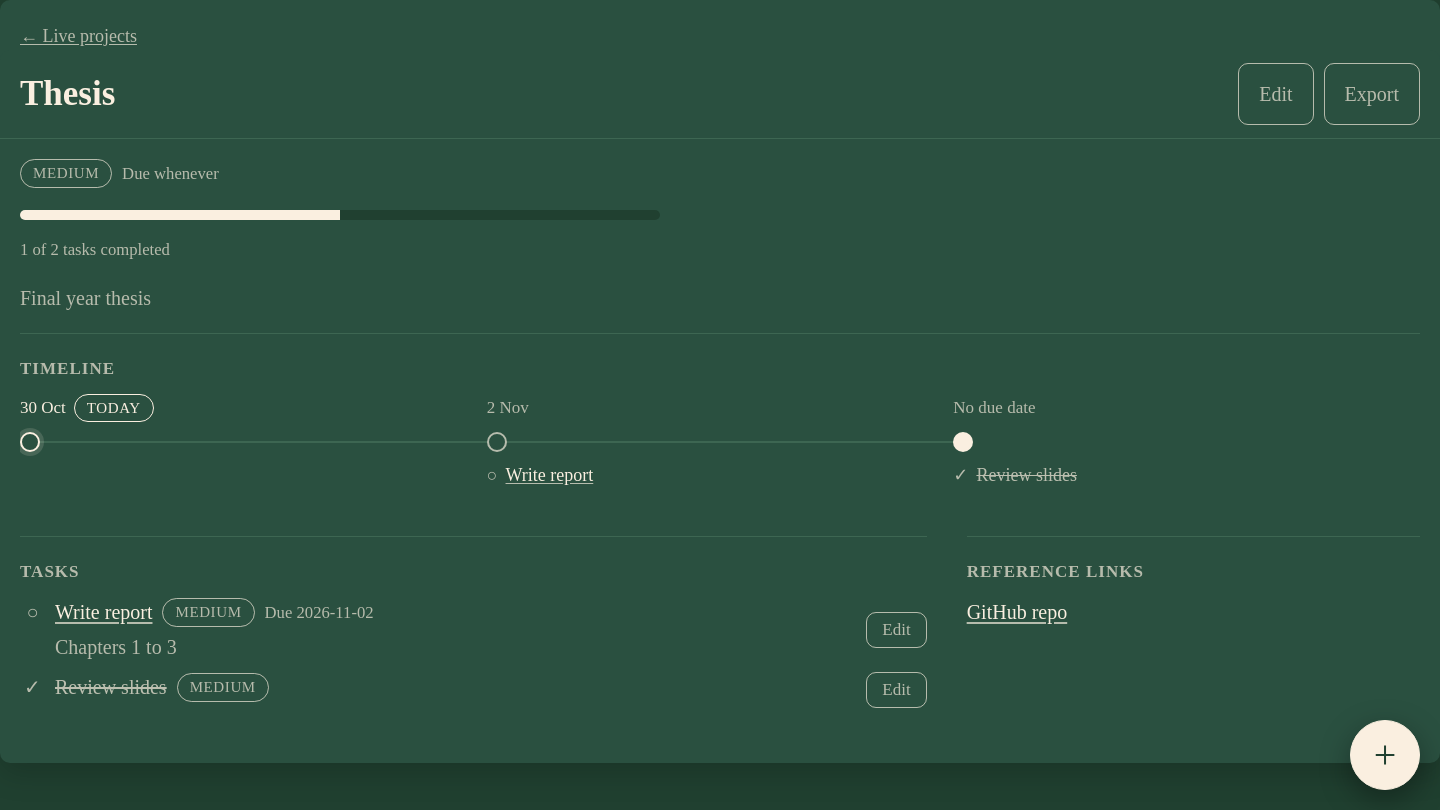
Scenario: Dashboard details pages › goes from a project's page to a task's page, which shows its projects and both sides of its relations
The width and height of the screenshot is (1440, 810).
Click the link to "/tasks/t2". click: (111, 687)
box: [55, 672, 167, 702]
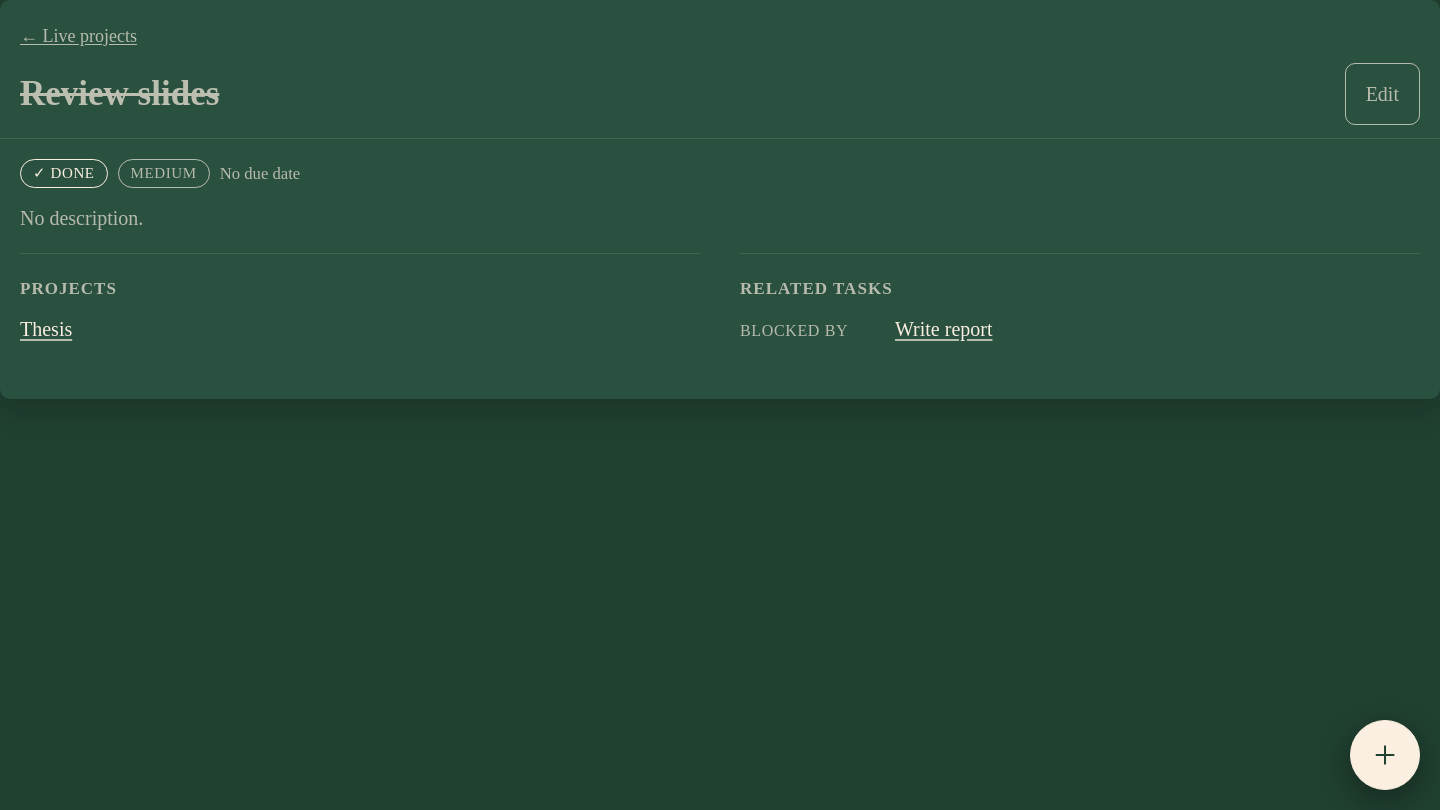
Expected: the element with class "meta" shows "✓ done", [33, 165, 95, 181]
Expected: the text "No description." is shown, [20, 207, 143, 229]
Click the link to "/tasks/t1". click: (944, 329)
box: [895, 314, 992, 344]
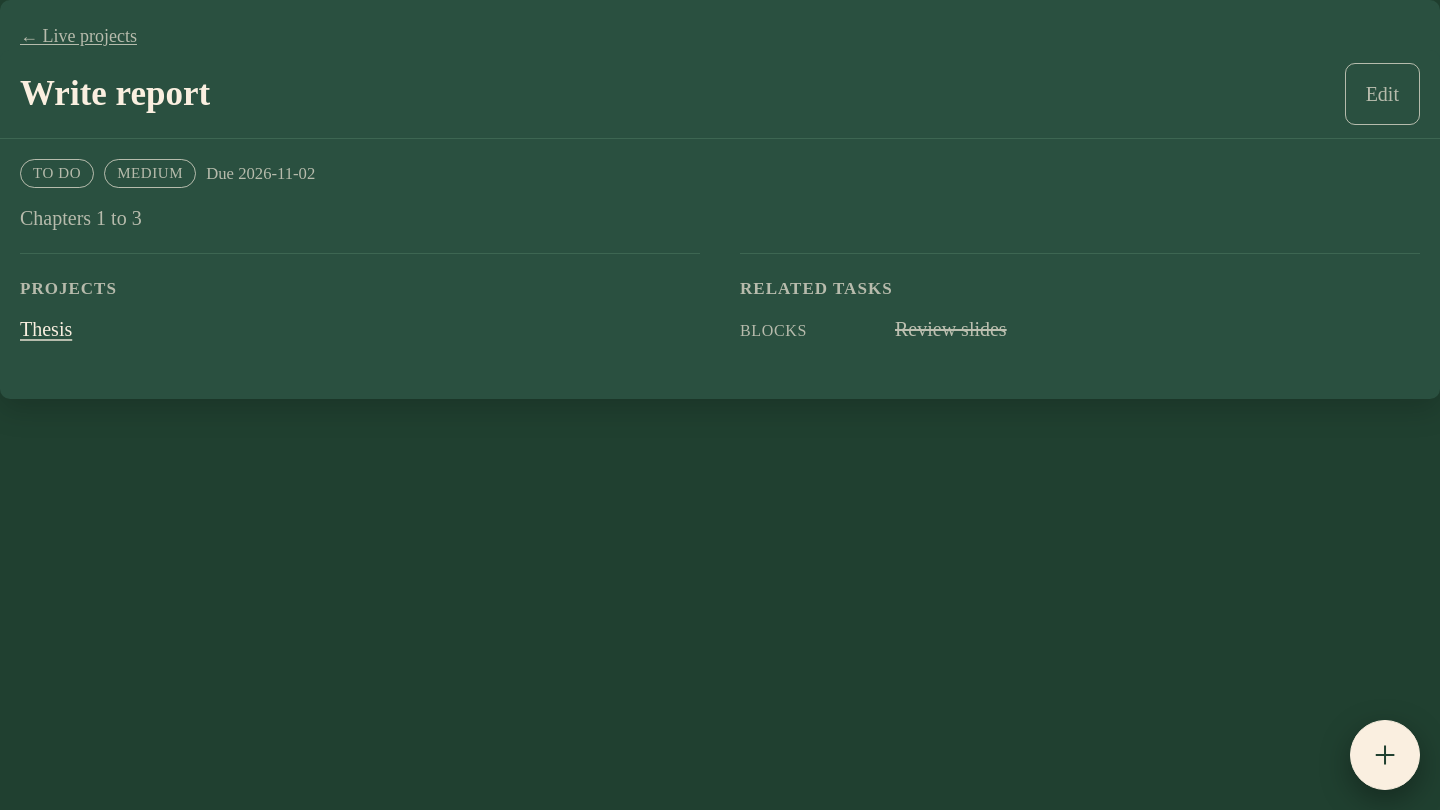
Expected: the heading "Write report" is shown, [20, 74, 210, 114]
Click the link to "/projects/p". click: (46, 329)
box: [20, 318, 72, 340]
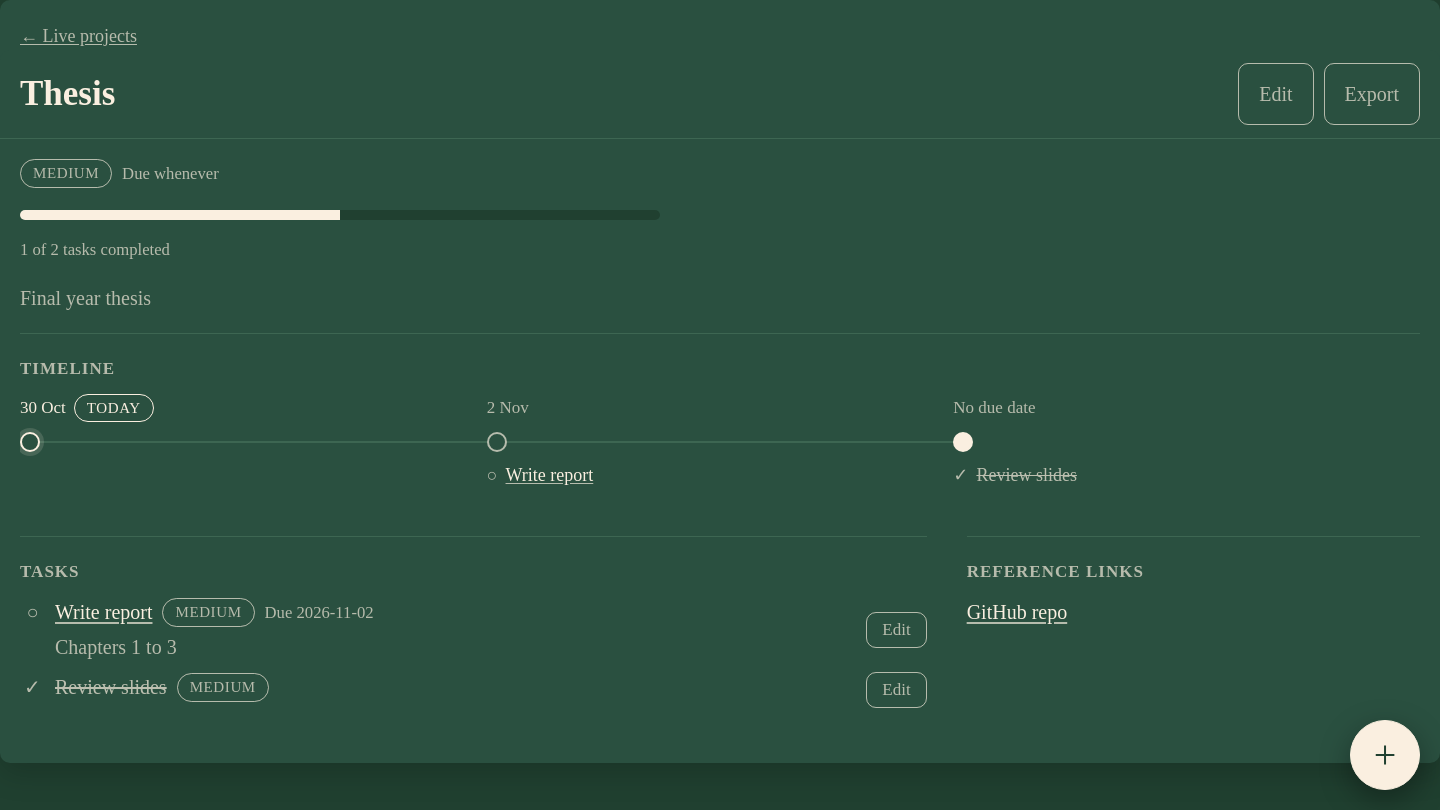
Expected: the heading "Thesis" is shown, [20, 74, 115, 114]
